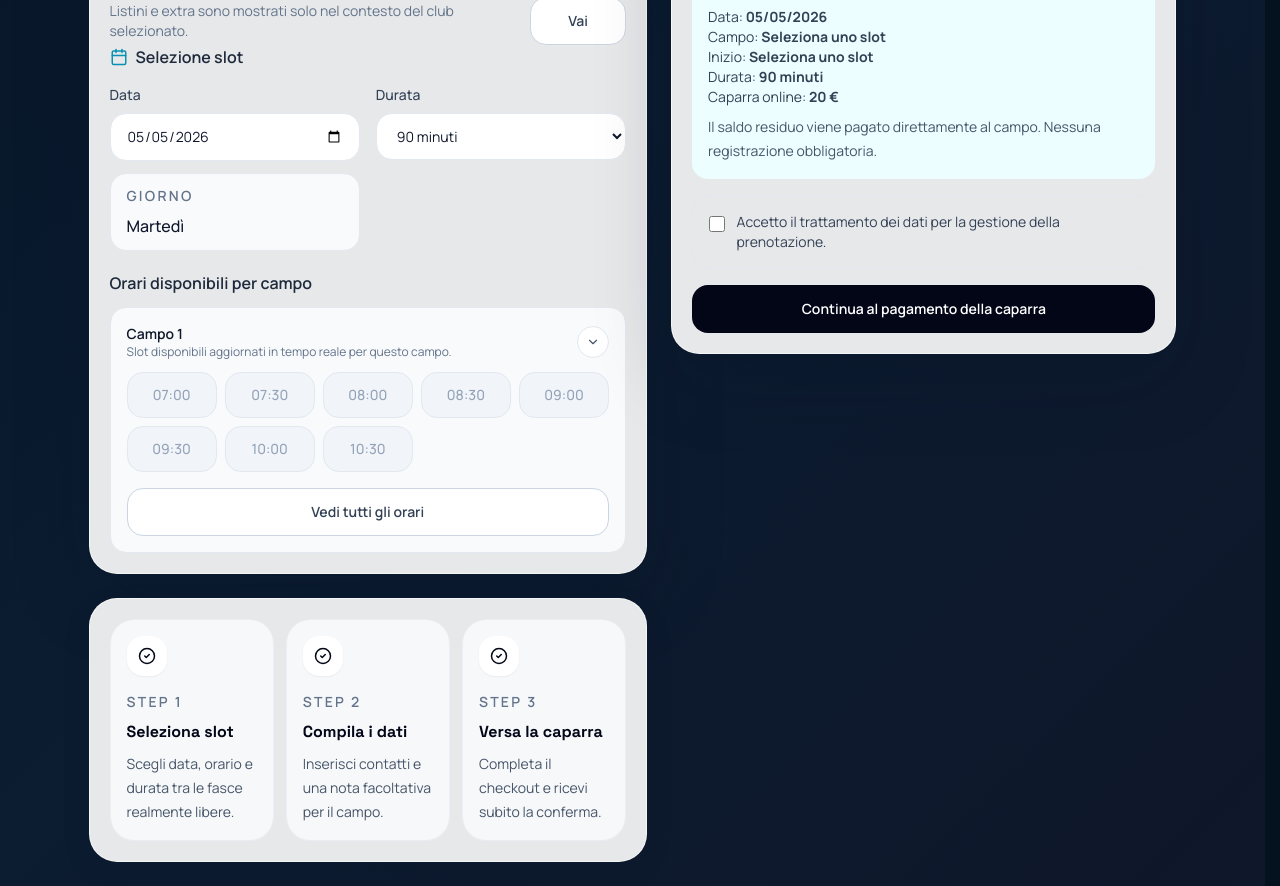
Scenario: PublicBookingPage › shows a see-all button instead of the unavailable-state message when more slots are hidden
The width and height of the screenshot is (1280, 886).
(page scrolled)
Click the button "Vedi tutti gli orari": (368, 512) top-left (126, 488), bottom-right (609, 536)
(page scrolled)
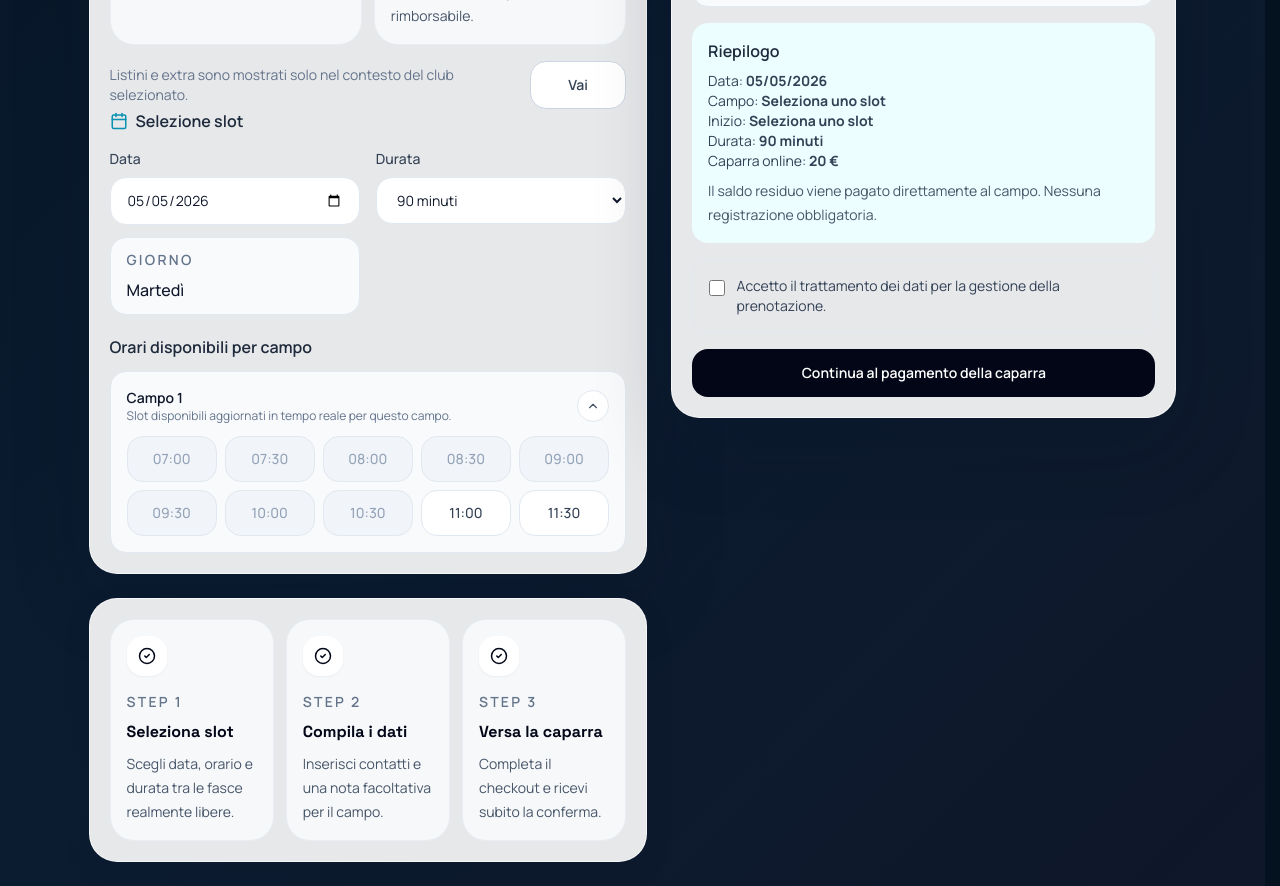
Expected: the button "11:00" is shown, top-left (421, 490), bottom-right (511, 536)
Expected: the button "11:30" is shown, top-left (519, 490), bottom-right (609, 536)
